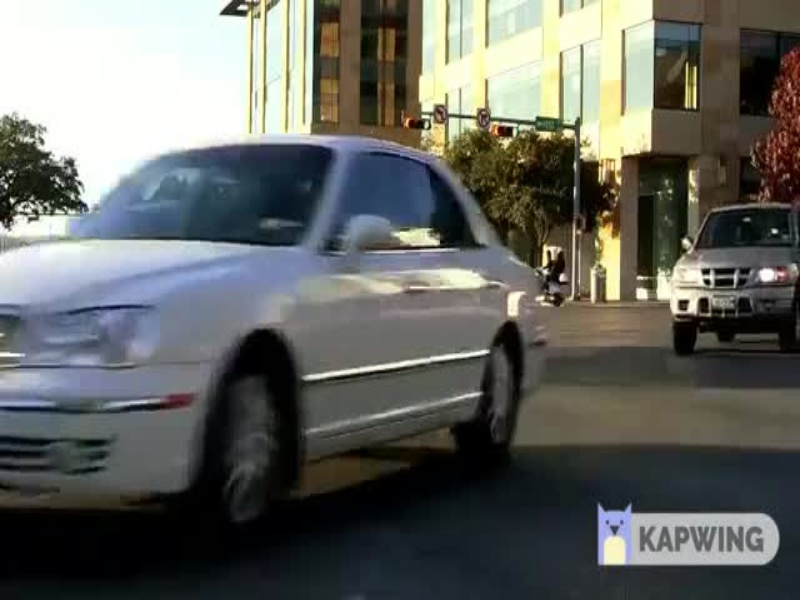car: (1, 134, 567, 524), (644, 201, 800, 361)
